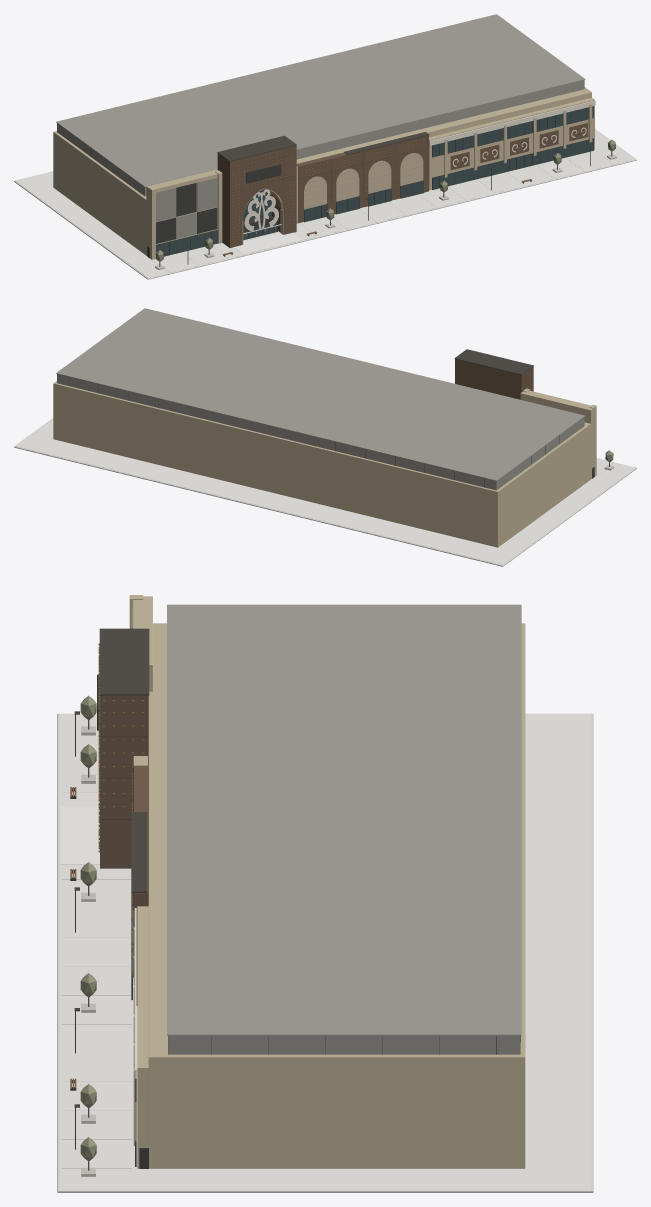
Rendered from mart.glb.
The picture shows the model from 3 angles, top to bottom: view 1: azimuth 30°, elevation 25°; view 2: azimuth 150°, elevation 25°; view 3: azimuth 270°, elevation 25°; orthographic projection. The views are drawn at different scales.
Visible parts, largest first — view 1: mart_mart_roof, mart_mart_cream, mart_chalk, mart_mart_brick, mart_mart_glass, mart_mart_upper, mart_mart_plinth, mart_mart_screen, mart_mart_joint, mart_stone, mart_mart_relief, mart_porcelain (+1 smaller); view 2: mart_mart_roof, mart_mart_cream, mart_chalk, mart_mart_upper, mart_mart_brick, mart_stone, mart_mart_joint; view 3: mart_mart_roof, mart_chalk, mart_mart_cream, mart_mart_brick, mart_mart_upper, mart_mart_joint, mart_stone, mart_porcelain, mart_foliage, mart_edge, mart_mart_relief, mart_mart_plinth.
Part boxes in pixels (bbox=[...]): mart_mart_roof: bbox=[56, 14, 585, 186]; mart_mart_cream: bbox=[53, 87, 594, 259]; mart_chalk: bbox=[15, 130, 635, 277]; mart_mart_brick: bbox=[159, 123, 612, 266]; mart_mart_glass: bbox=[156, 106, 593, 256]; mart_mart_upper: bbox=[57, 80, 584, 238]; mart_mart_plinth: bbox=[147, 106, 593, 264]; mart_mart_screen: bbox=[243, 100, 595, 236]; mart_mart_joint: bbox=[62, 127, 429, 225]; mart_stone: bbox=[14, 129, 636, 279]; mart_mart_relief: bbox=[222, 138, 531, 255]; mart_porcelain: bbox=[234, 232, 302, 254]; mart_mart_roof: bbox=[56, 308, 585, 480]; mart_mart_cream: bbox=[53, 381, 596, 547]; mart_chalk: bbox=[16, 419, 635, 564]; mart_mart_upper: bbox=[57, 374, 584, 490]; mart_mart_brick: bbox=[455, 359, 609, 466]; mart_stone: bbox=[14, 418, 636, 566]; mart_mart_joint: bbox=[69, 349, 559, 487]; mart_mart_roof: bbox=[167, 604, 521, 1035]; mart_chalk: bbox=[59, 714, 591, 1189]; mart_mart_cream: bbox=[129, 595, 525, 1168]; mart_mart_brick: bbox=[88, 695, 148, 1170]; mart_mart_upper: bbox=[132, 607, 520, 1054]; mart_mart_joint: bbox=[99, 628, 520, 1054]; mart_stone: bbox=[57, 713, 593, 1192]; mart_porcelain: bbox=[60, 806, 99, 864]; mart_foliage: bbox=[80, 695, 96, 1161]; mart_edge: bbox=[62, 726, 131, 1176]; mart_mart_relief: bbox=[70, 643, 144, 1088]; mart_mart_plinth: bbox=[70, 627, 148, 1168].
Bounding box in the file's own units: 198 × 34.24 × 94.
